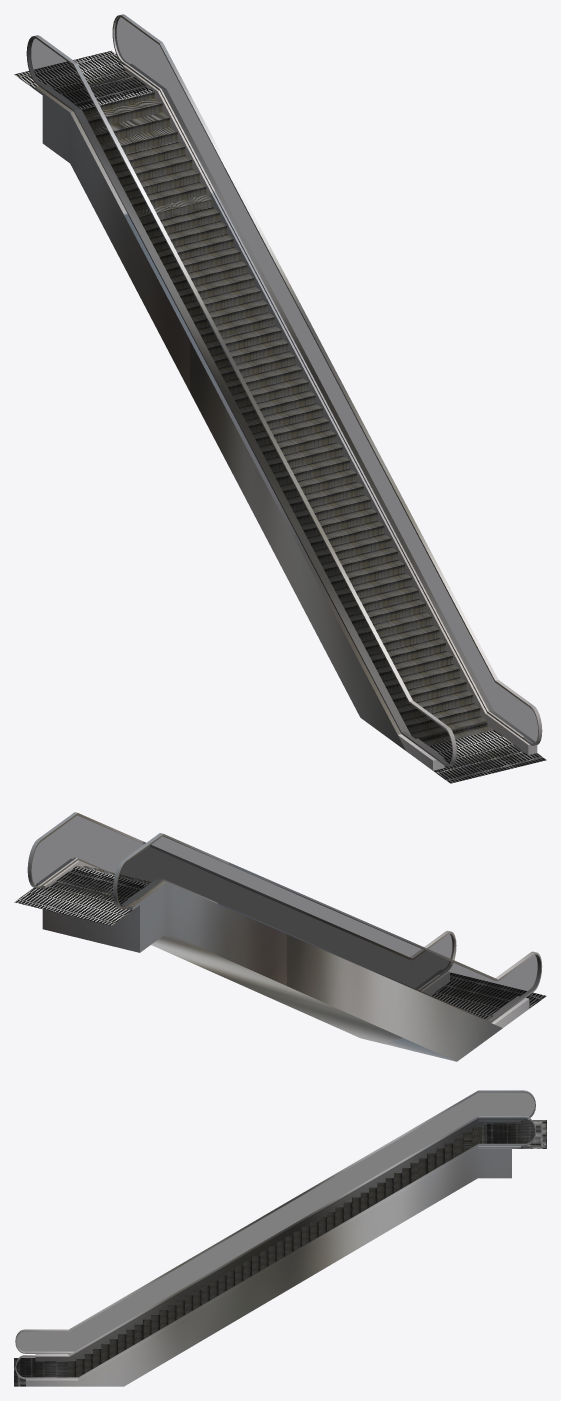
The picture shows the model from 3 angles, top to bottom: view 1: azimuth 30°, elevation 25°; view 2: azimuth 150°, elevation 25°; view 3: azimuth 270°, elevation 25°; orthographic projection. The views are drawn at different scales.
Parts seen in each view (by area): view 1: Material2.001, Material2, Material2.002, Material3.001; view 2: Material2, Material2.002, Material3.001; view 3: Material2.002, Material2, Material2.001, Material3.001.
Boxes of the visible parts, x1,y1,x2,y2 form: Material2.001: (82, 92, 493, 745); Material2: (26, 14, 542, 770); Material2.002: (27, 17, 537, 764); Material3.001: (14, 50, 546, 783); Material2: (27, 812, 542, 1061); Material2.002: (31, 815, 541, 1021); Material3.001: (14, 865, 546, 1018); Material2.002: (16, 1092, 534, 1377); Material2: (15, 1090, 535, 1386); Material2.001: (68, 1143, 454, 1377); Material3.001: (14, 1120, 546, 1386).
Bounding box in the file's own units: 70.63 × 305 × 548.
Materials: 9 (7 with a texture image).
